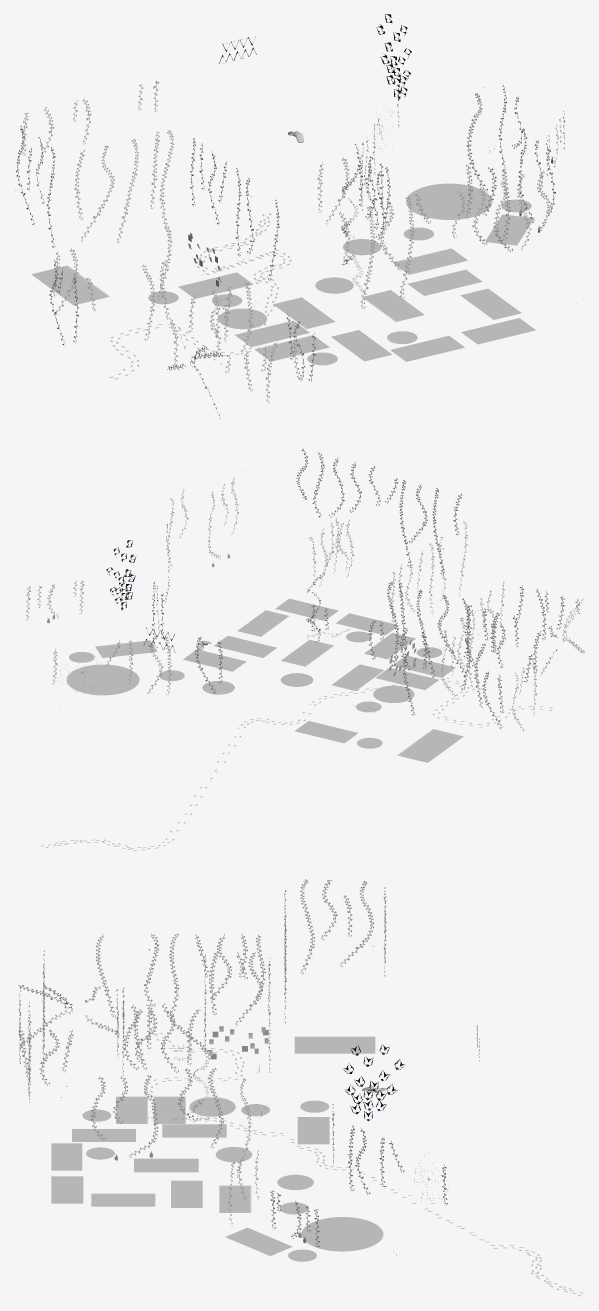
File: chugahaeyaham.FBX
The picture shows the model from 3 angles, top to bottom: view 1: azimuth 30°, elevation 25°; view 2: azimuth 150°, elevation 25°; view 3: azimuth 270°, elevation 25°; orthographic projection. The views are drawn at different scales.
Parts seen in each view (by area): view 1: capet, vine, 2f_alpha_object; view 2: capet, vine, 2f_alpha_object; view 3: capet, vine, 2f_alpha_object.
Boxes of the visible parts, x1,y1,x2,y2 form: capet: (15,87,576,379); vine: (16,80,564,418); 2f_alpha_object: (219,14,411,99); capet: (41,470,552,850); vine: (26,448,584,732); 2f_alpha_object: (106,540,175,652); capet: (26,936,583,1296); vine: (18,879,447,1246); 2f_alpha_object: (343,1025,479,1120).
Bounding box in the file's own units: 1696 × 806 × 1613.
